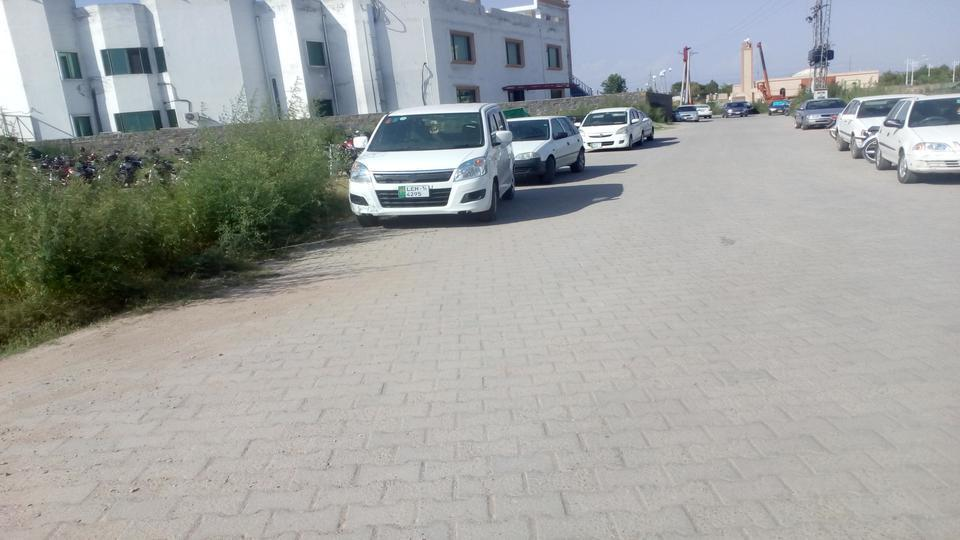NumberPlate: (394, 184, 432, 202), (589, 140, 605, 152)
